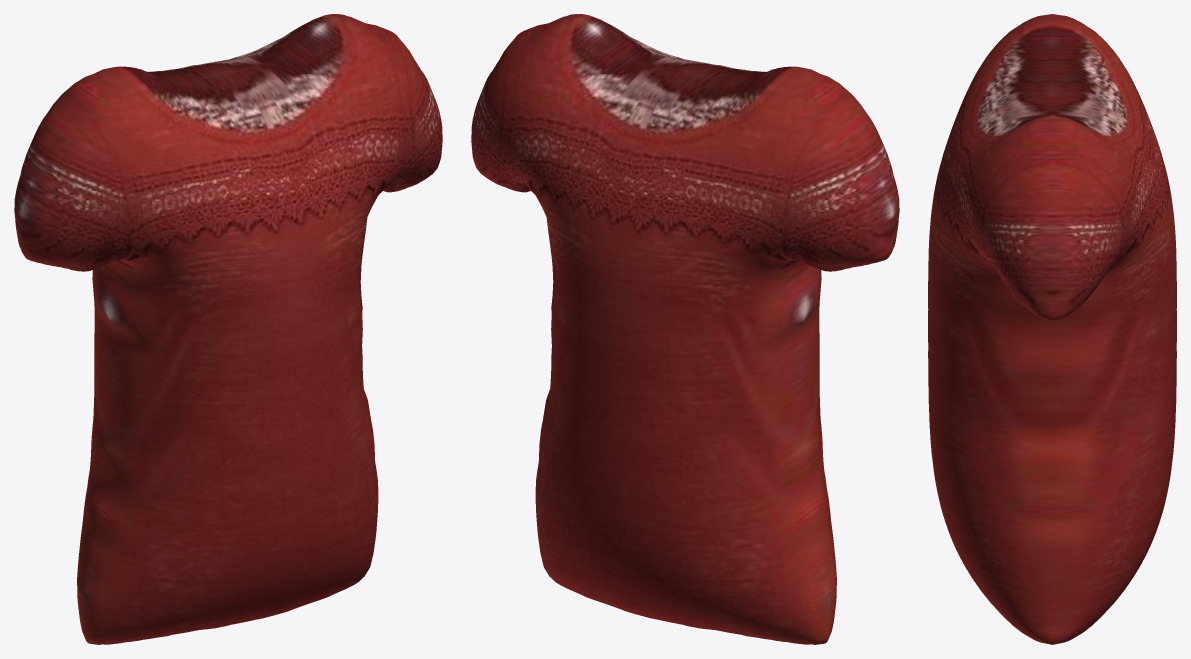
File: AN621DA8W-O11@10=cloth_front.glb
3 renders of one model, left to right at view 1: azimuth 30°, elevation 25°; view 2: azimuth 150°, elevation 25°; view 3: azimuth 270°, elevation 25°, orthographic. The views are drawn at different scales.
Bounding box in the file's own units: 4.56 × 6 × 2.56.
1 material, 1 textured.
